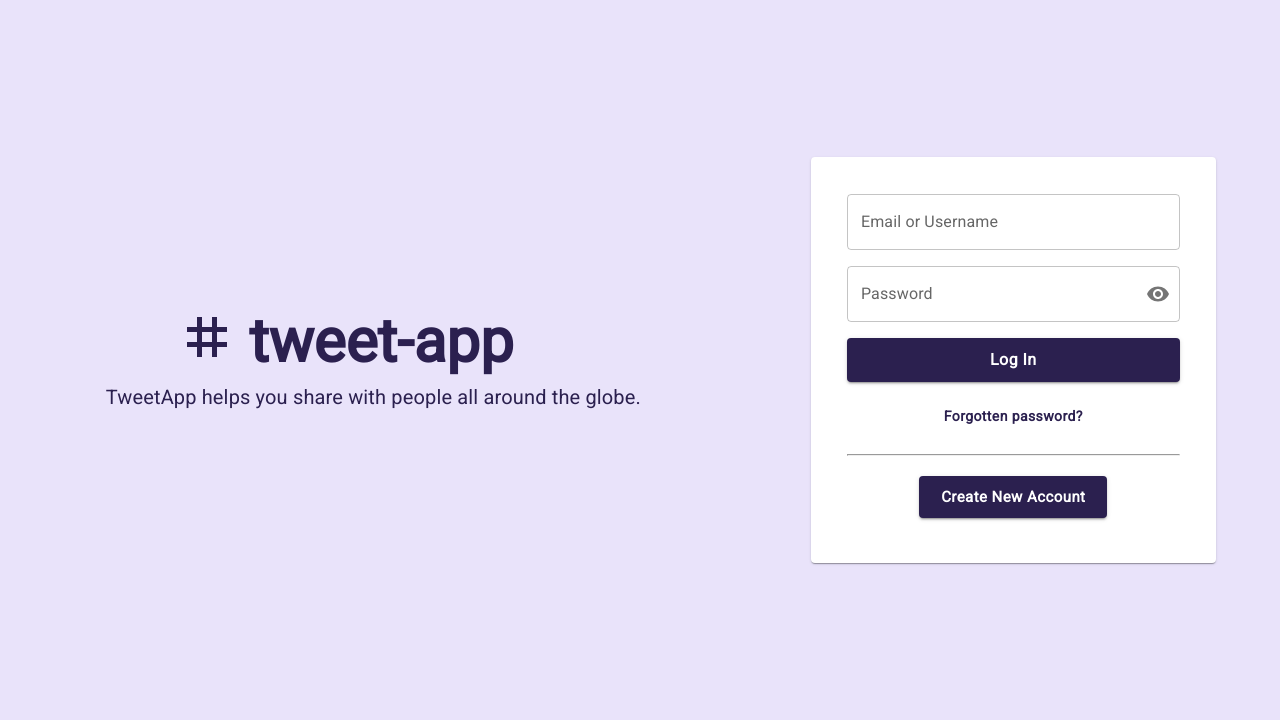
it: renders forget password form
The width and height of the screenshot is (1280, 720).
Click the button with test id "forgot-password-button".
click(1013, 416)  # box x1=936 y1=398 x2=1091 y2=434
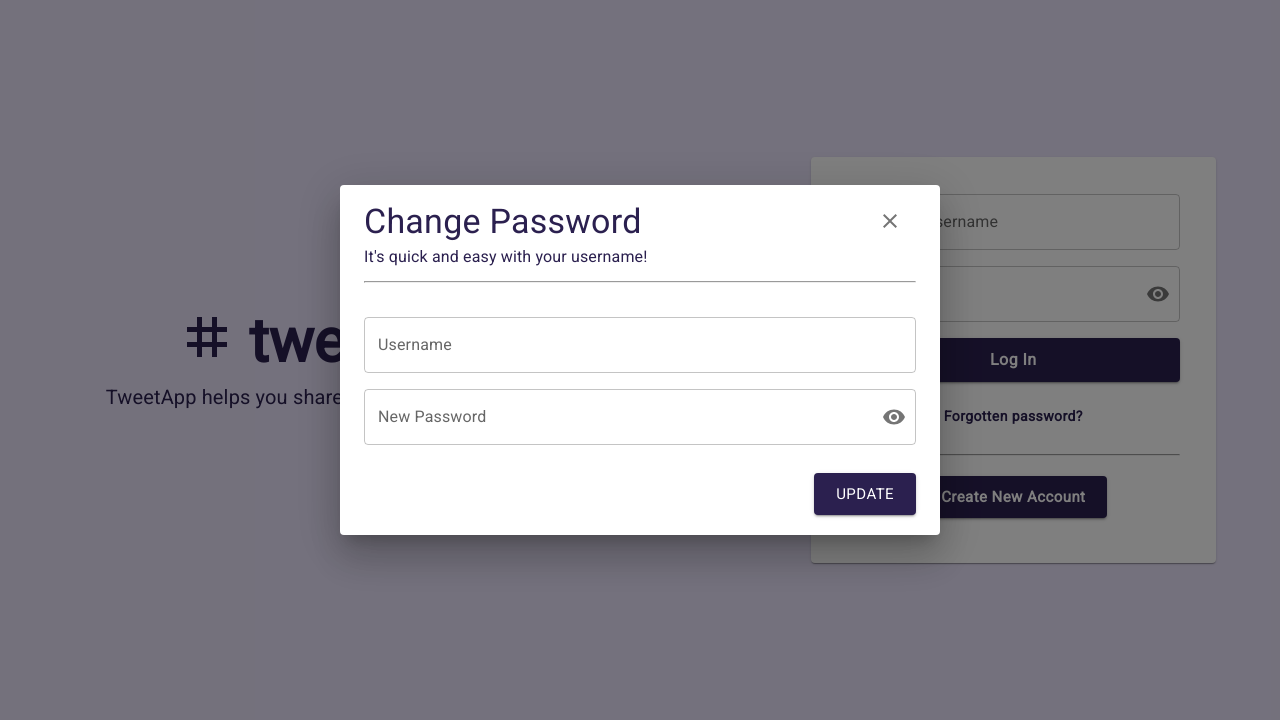
Now the element with test id "forgot-password-dialog" is shown
Now the heading "Change Password" is shown, box x1=364 y1=201 x2=642 y2=241
Now the text "It's quick and easy with your username!" is shown, box x1=364 y1=247 x2=648 y2=266
